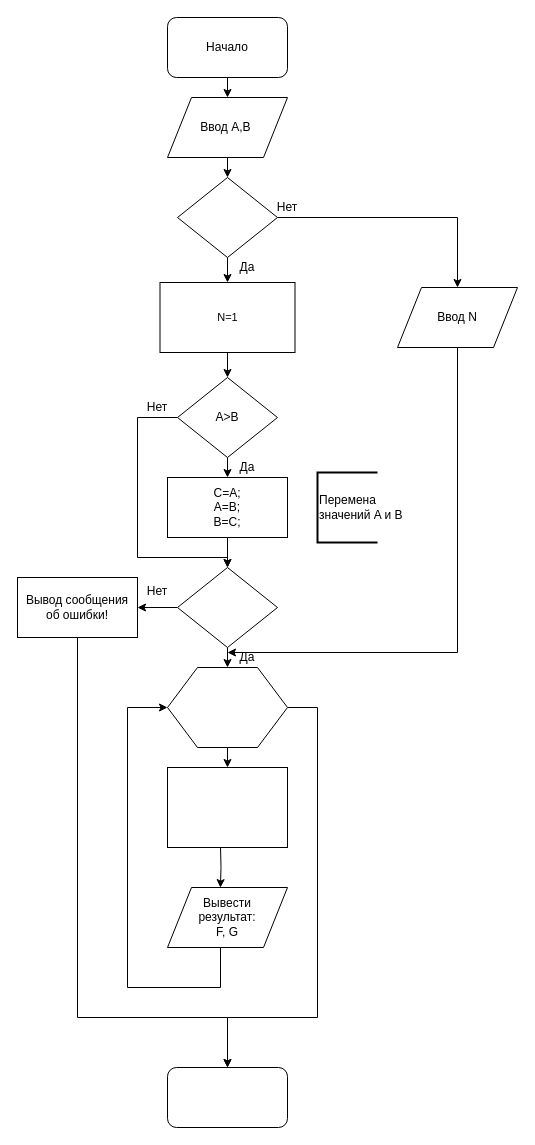
Image size: 535x1145. Some labels were removed from this diagram. Each missing label, with the centre of its shape:
"A=B" goes at point 227,217.
"N>0" goes at point 227,607.
"x=A+i*h; F=sin(x)*cos(x); G=pow((x-1),3);" goes at point 227,807.
"Конец" goes at point 227,1097.
"цикл по i от 0 до N" goes at point 227,707.
